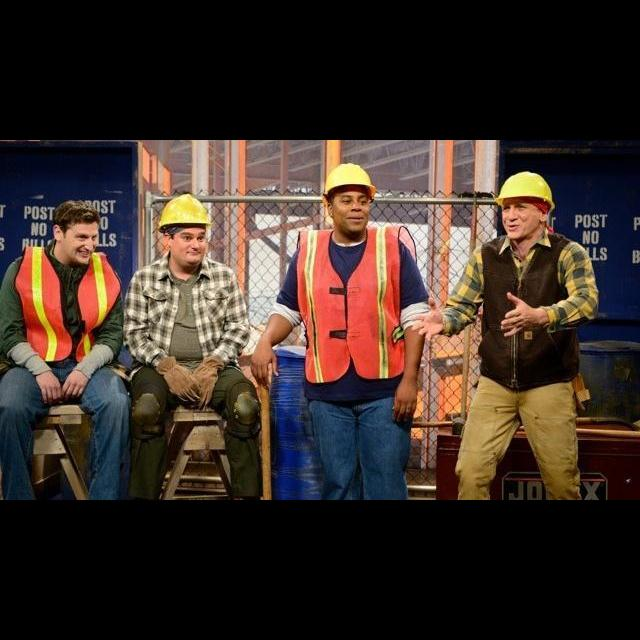Gloves: (157, 356, 202, 402), (192, 354, 223, 403)
Hardhat: (495, 171, 554, 206), (325, 164, 378, 198), (155, 194, 209, 227)
NO-Hardhat: (54, 200, 100, 229)
NO-Mask: (175, 246, 210, 267), (335, 213, 368, 234), (62, 246, 91, 266), (507, 220, 539, 238)
NO-Safety Vest: (475, 232, 581, 386), (150, 260, 223, 357)
Person: (411, 171, 599, 500), (252, 164, 434, 500), (124, 188, 266, 500), (1, 198, 127, 500)
Safety Vest: (294, 224, 417, 375), (17, 243, 123, 368)
